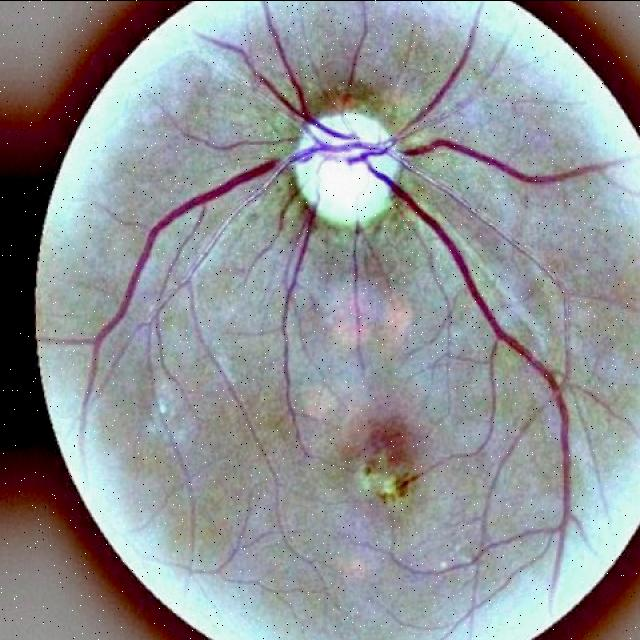Macula: (356, 417, 417, 503)
Nerves: (53, 0, 620, 557), (294, 108, 403, 221), (279, 197, 319, 423), (344, 0, 367, 87), (349, 224, 361, 367)
